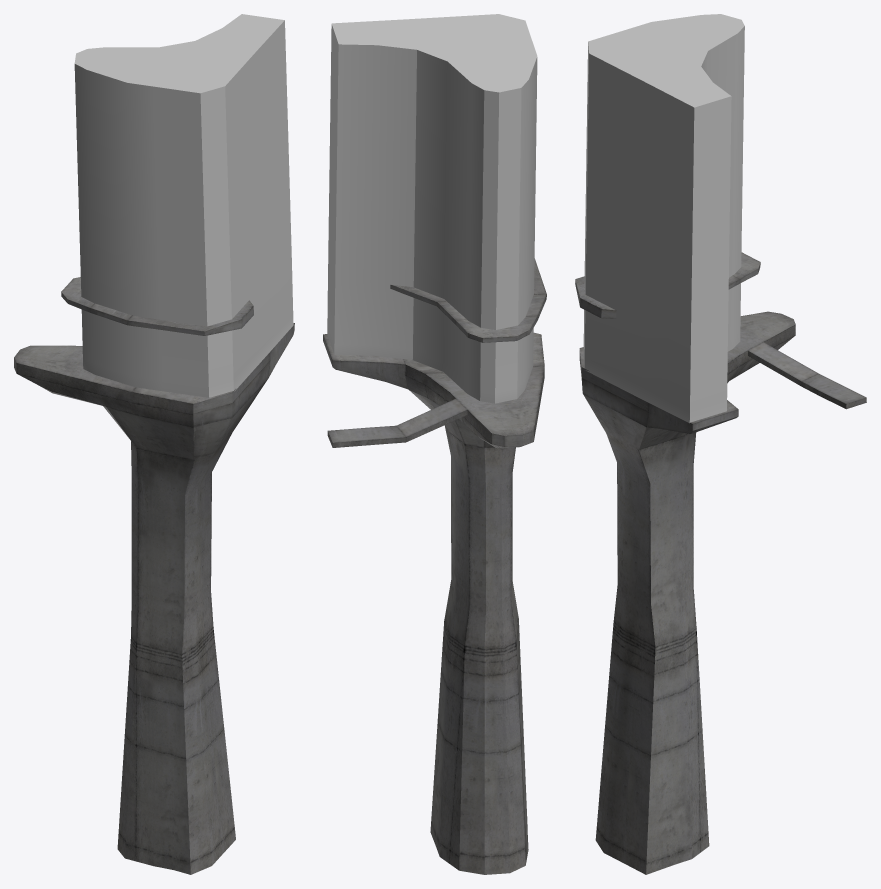
The picture shows the model from 3 angles, left to right: view 1: azimuth 30°, elevation 25°; view 2: azimuth 150°, elevation 25°; view 3: azimuth 270°, elevation 25°; orthographic projection. The views are drawn at different scales.
Parts seen in each view (by area): view 1: Cube.052; view 2: Cube.052; view 3: Cube.052.
Part boxes in pixels (bbox=[...]): Cube.052: bbox=[14, 14, 294, 874]; Cube.052: bbox=[323, 14, 546, 874]; Cube.052: bbox=[575, 14, 866, 874].
Size of the model in its own units: 1956 by 6081 by 1998.
